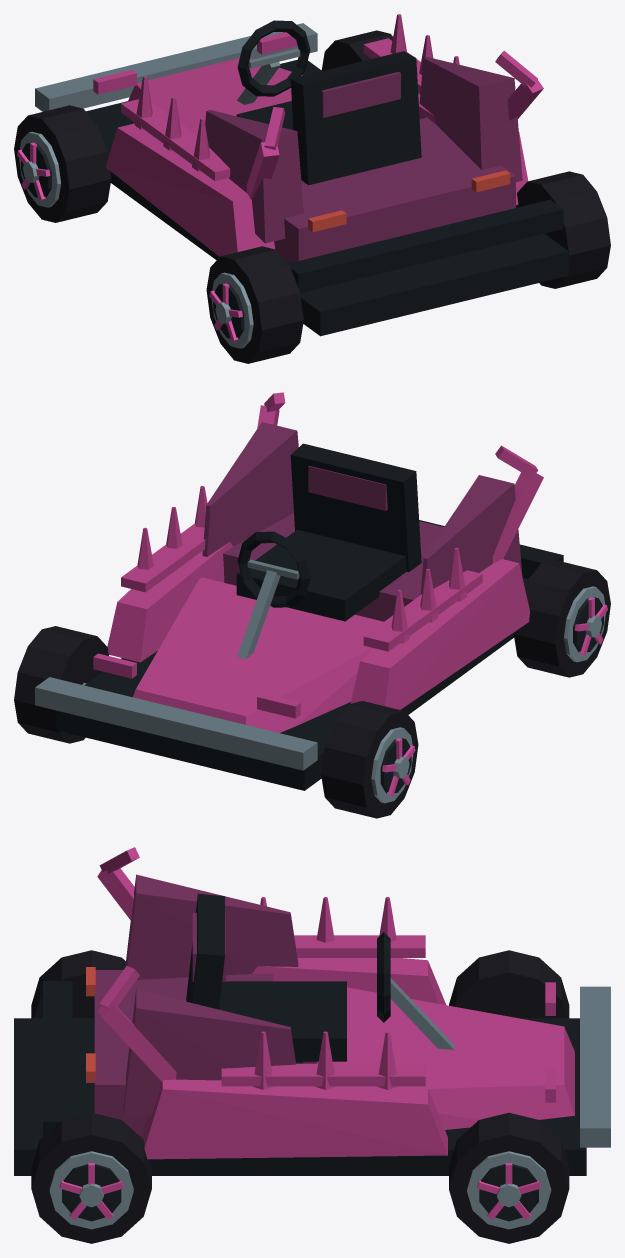
Rendered from kart.glb.
The picture shows the model from 3 angles, top to bottom: view 1: azimuth 30°, elevation 25°; view 2: azimuth 150°, elevation 25°; view 3: azimuth 270°, elevation 25°; orthographic projection. The views are drawn at different scales.
Visible parts, largest first — view 1: chassis, wheel-rear-left, wheel-front-left, wheel-rear-right, wheel-front-right; view 2: chassis, wheel-front-left, wheel-rear-left, wheel-front-right; view 3: chassis, wheel-front-right, wheel-rear-right, wheel-front-left, wheel-rear-left.
Boxes of the visible parts, x1,y1,x2,y2 form: chassis: (35, 14, 568, 336); wheel-rear-left: (206, 246, 303, 363); wheel-front-left: (14, 105, 111, 222); wheel-rear-right: (516, 171, 610, 288); wheel-front-right: (321, 30, 392, 70); chassis: (35, 392, 563, 790); wheel-front-left: (321, 701, 418, 818); wheel-rear-left: (513, 560, 610, 677); wheel-front-right: (14, 626, 108, 743); chassis: (14, 847, 610, 1175); wheel-front-right: (449, 1112, 569, 1243); wheel-rear-right: (31, 1112, 151, 1243); wheel-front-left: (449, 950, 569, 1018); wheel-rear-left: (31, 950, 125, 1018).
Bounding box in the file's own units: 2.42 × 1.38 × 3.08.
